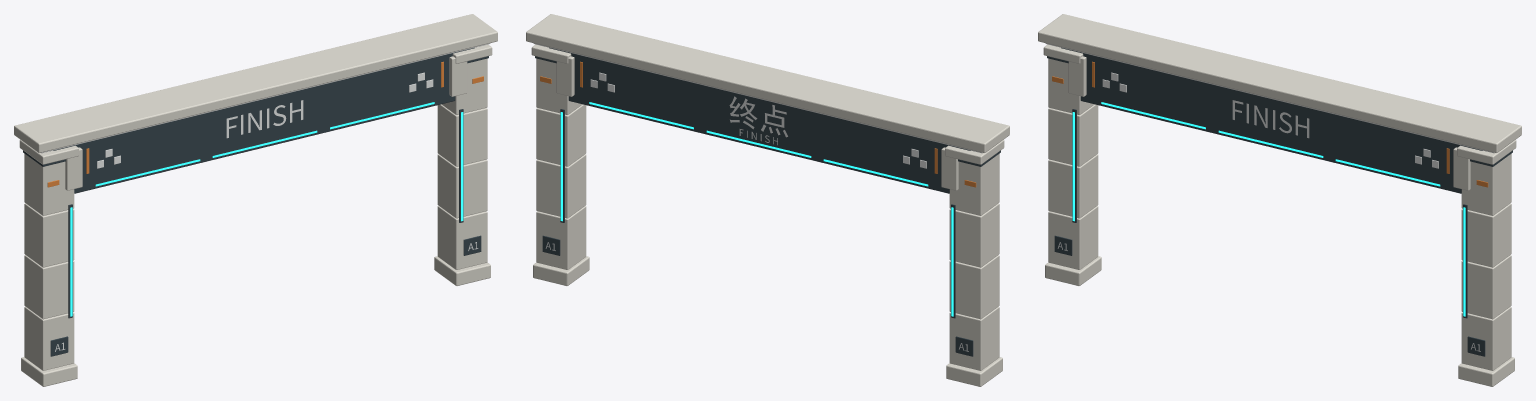
File: CityFinishGate.fbx
3 views of the same model, side by side, from view 1: azimuth 30°, elevation 25°; view 2: azimuth 150°, elevation 25°; view 3: azimuth 330°, elevation 25° (orthographic).
Parts seen in each view (by area): view 1: CityFinishGate_SC_Concrete, CityFinishGate_SC_Metal, CityFinishGate_SC_White, CityFinishGate_SC_Cyan; view 2: CityFinishGate_SC_Concrete, CityFinishGate_SC_Metal, CityFinishGate_SC_White, CityFinishGate_SC_Cyan; view 3: CityFinishGate_SC_Concrete, CityFinishGate_SC_Metal, CityFinishGate_SC_White, CityFinishGate_SC_Cyan.
Part boxes in pixels (x1,y1,x2,y2): CityFinishGate_SC_Concrete: (14, 14, 497, 386); CityFinishGate_SC_Metal: (23, 47, 488, 356); CityFinishGate_SC_White: (41, 43, 490, 351); CityFinishGate_SC_Cyan: (70, 102, 463, 316); CityFinishGate_SC_Concrete: (526, 14, 1009, 386); CityFinishGate_SC_Metal: (535, 47, 1000, 356); CityFinishGate_SC_White: (533, 43, 982, 351); CityFinishGate_SC_Cyan: (560, 102, 953, 316); CityFinishGate_SC_Concrete: (1038, 14, 1521, 386); CityFinishGate_SC_Metal: (1047, 47, 1512, 356); CityFinishGate_SC_White: (1045, 43, 1494, 351); CityFinishGate_SC_Cyan: (1072, 102, 1465, 316).
Bounding box in the file's own units: 11.3 × 5.78 × 1.08.
